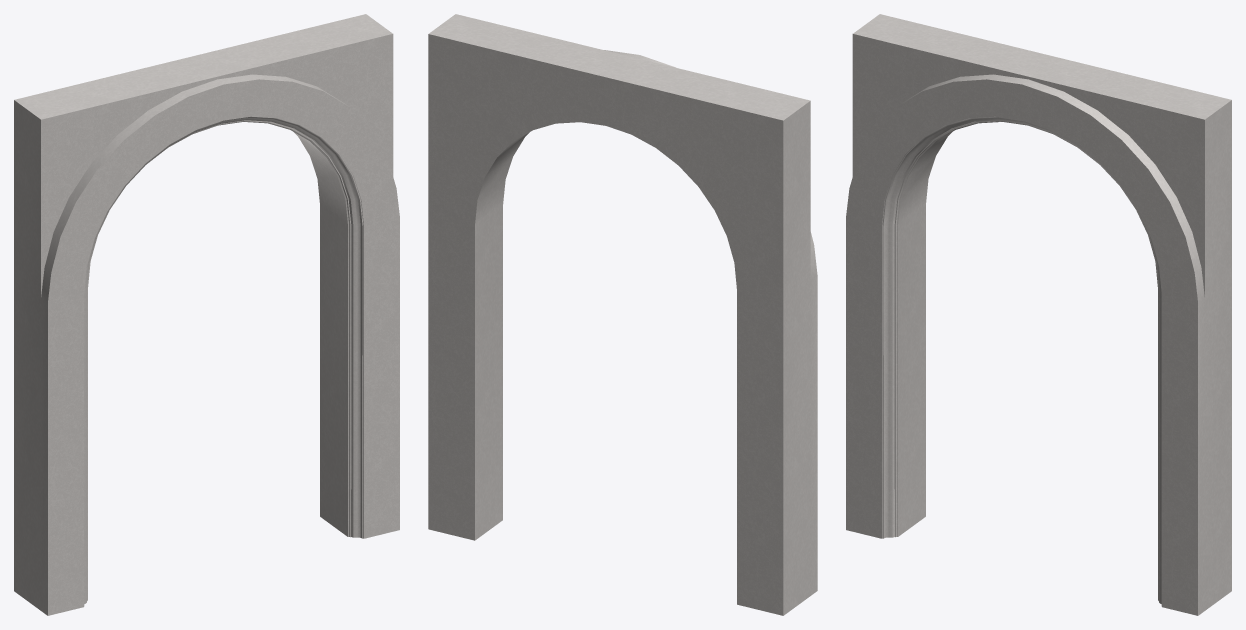
Rendered from Doorway.glb.
3 views of the same model, side by side, from view 1: azimuth 30°, elevation 25°; view 2: azimuth 150°, elevation 25°; view 3: azimuth 330°, elevation 25° (orthographic).
Parts seen in each view (by area): view 1: Arc_complex; view 2: Arc_complex; view 3: Arc_complex.
Boxes of the visible parts, x1,y1,x2,y2 form: Arc_complex: [14, 14, 399, 615]; Arc_complex: [428, 14, 817, 615]; Arc_complex: [846, 14, 1231, 615].
Bounding box in the file's own units: 3 × 4 × 0.5.
1 material, 1 textured.
